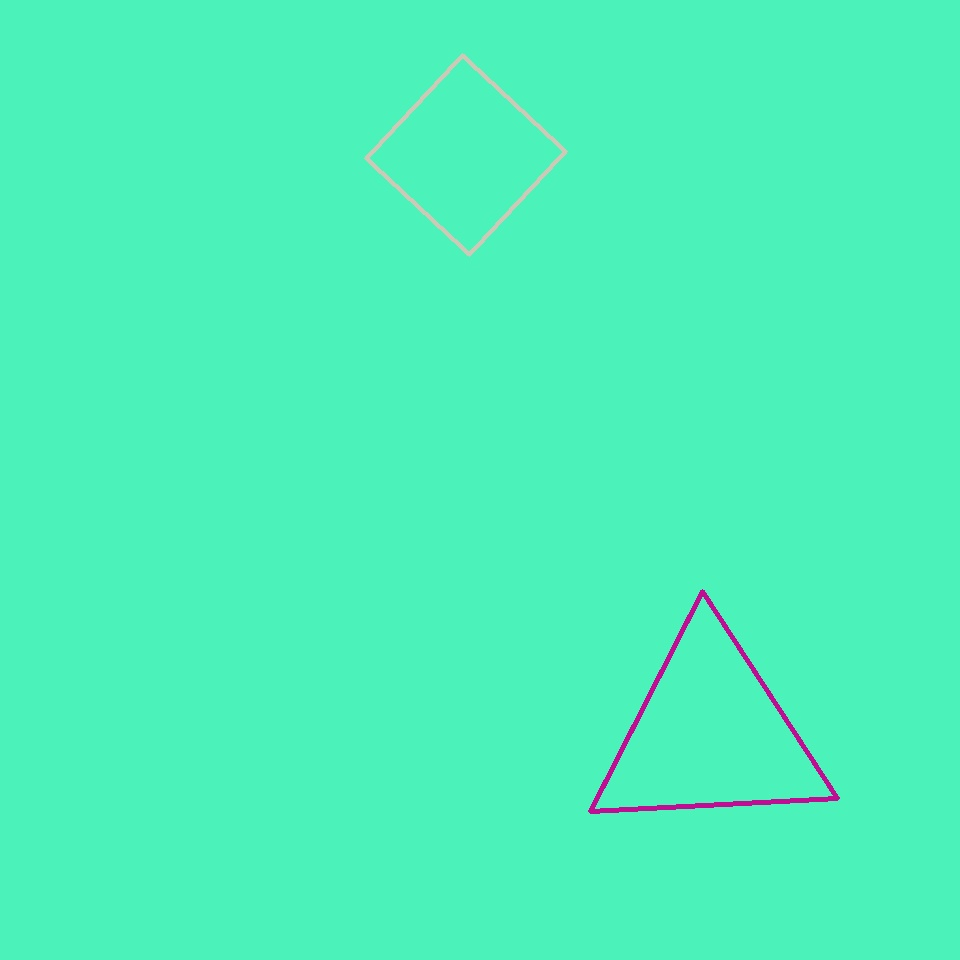circle: (586, 624, 834, 844)
square: (366, 56, 566, 255)
